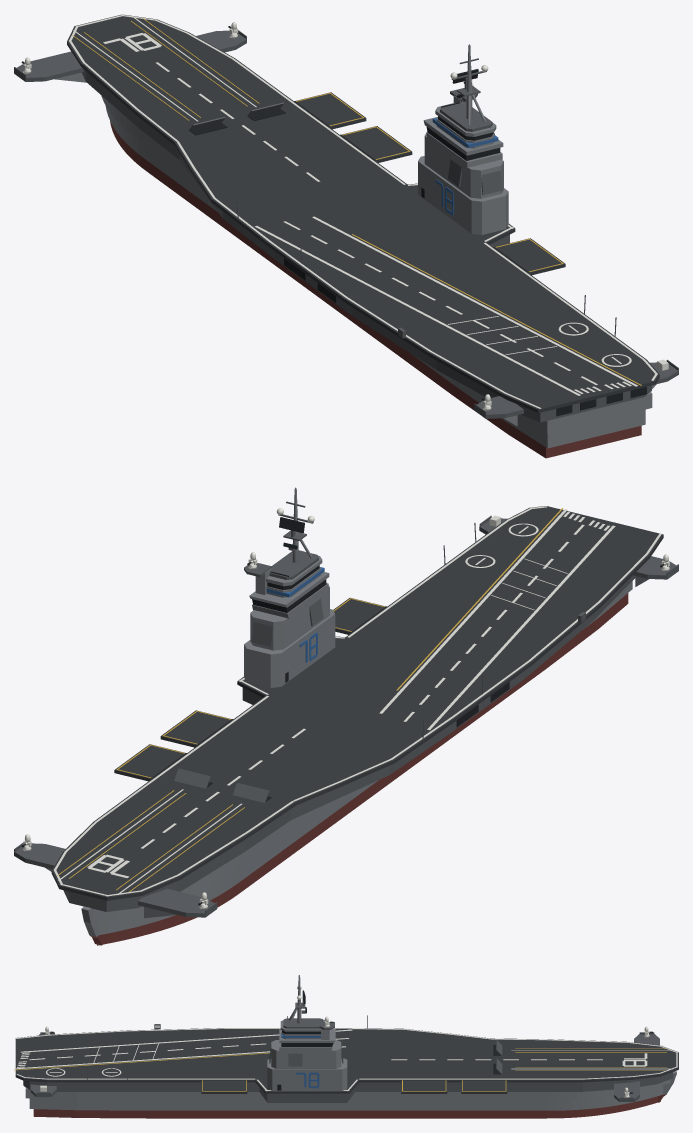
The model's file is carrier.glb.
3 views of the same model, one above another, from view 1: azimuth 30°, elevation 25°; view 2: azimuth 150°, elevation 25°; view 3: azimuth 270°, elevation 25° (orthographic). The views are drawn at different scales.
Visible parts, largest first — view 1: flight_deck, hull_boot, gallery, hull_lower, island_base, hull_upper, island_mid, elevator_1, elevator_2, elevator_3, sponson_bow_port_platform, angled_edge_stbd (+4 smaller); view 2: flight_deck, gallery, hull_boot, hull_lower, island_base, island_mid, hull_upper, sponson_bow_port_platform, elevator_2, elevator_1, elevator_3, angled_edge_stbd (+4 smaller); view 3: flight_deck, hull_lower, hull_boot, gallery, hull_upper, island_base, island_mid, elevator_1, elevator_3, elevator_2, angled_edge_port, angled_edge_stbd (+9 smaller).
Part boxes in pixels (left/top/right/bottom): flight_deck: left=67, top=14, right=659, bottom=412; hull_boot: left=110, top=121, right=641, bottom=458; gallery: left=81, top=69, right=651, bottom=422; hull_lower: left=105, top=106, right=645, bottom=448; island_base: left=418, top=156, right=508, bottom=234; hull_upper: left=101, top=95, right=652, bottom=433; island_mid: left=424, top=133, right=503, bottom=198; elevator_1: left=295, top=92, right=366, bottom=129; elevator_2: left=341, top=126, right=412, bottom=162; elevator_3: left=495, top=238, right=565, bottom=275; sponson_bow_port_platform: left=14, top=51, right=83, bottom=81; angled_edge_stbd: left=312, top=216, right=637, bottom=386; flight_deck: left=51, top=506, right=663, bottom=900; gallery: left=63, top=575, right=636, bottom=911; hull_boot: left=97, top=593, right=628, bottom=945; hull_lower: left=92, top=581, right=632, bottom=936; island_base: left=244, top=609, right=335, bottom=687; island_mid: left=250, top=582, right=329, bottom=650; hull_upper: left=87, top=804, right=326, bottom=920; sponson_bow_port_platform: left=138, top=888, right=217, bottom=917; elevator_2: left=160, top=710, right=231, bottom=747; elevator_1: left=114, top=744, right=185, bottom=781; elevator_3: left=333, top=597, right=385, bottom=634; angled_edge_stbd: left=379, top=509, right=567, bottom=713; flight_deck: left=15, top=1028, right=678, bottom=1093; hull_lower: left=29, top=1085, right=663, bottom=1110; hull_boot: left=33, top=1096, right=660, bottom=1118; gallery: left=23, top=1072, right=672, bottom=1102; hull_upper: left=25, top=1072, right=673, bottom=1100; island_base: left=267, top=1058, right=347, bottom=1091; island_mid: left=271, top=1040, right=341, bottom=1068; elevator_1: left=461, top=1080, right=507, bottom=1093; elevator_3: left=201, top=1080, right=247, bottom=1093; elevator_2: left=401, top=1080, right=447, bottom=1093; angled_edge_port: left=21, top=1029, right=352, bottom=1052; angled_edge_stbd: left=14, top=1046, right=345, bottom=1069.
Size of the model in its own units: 79.2 by 84.2 by 333.
